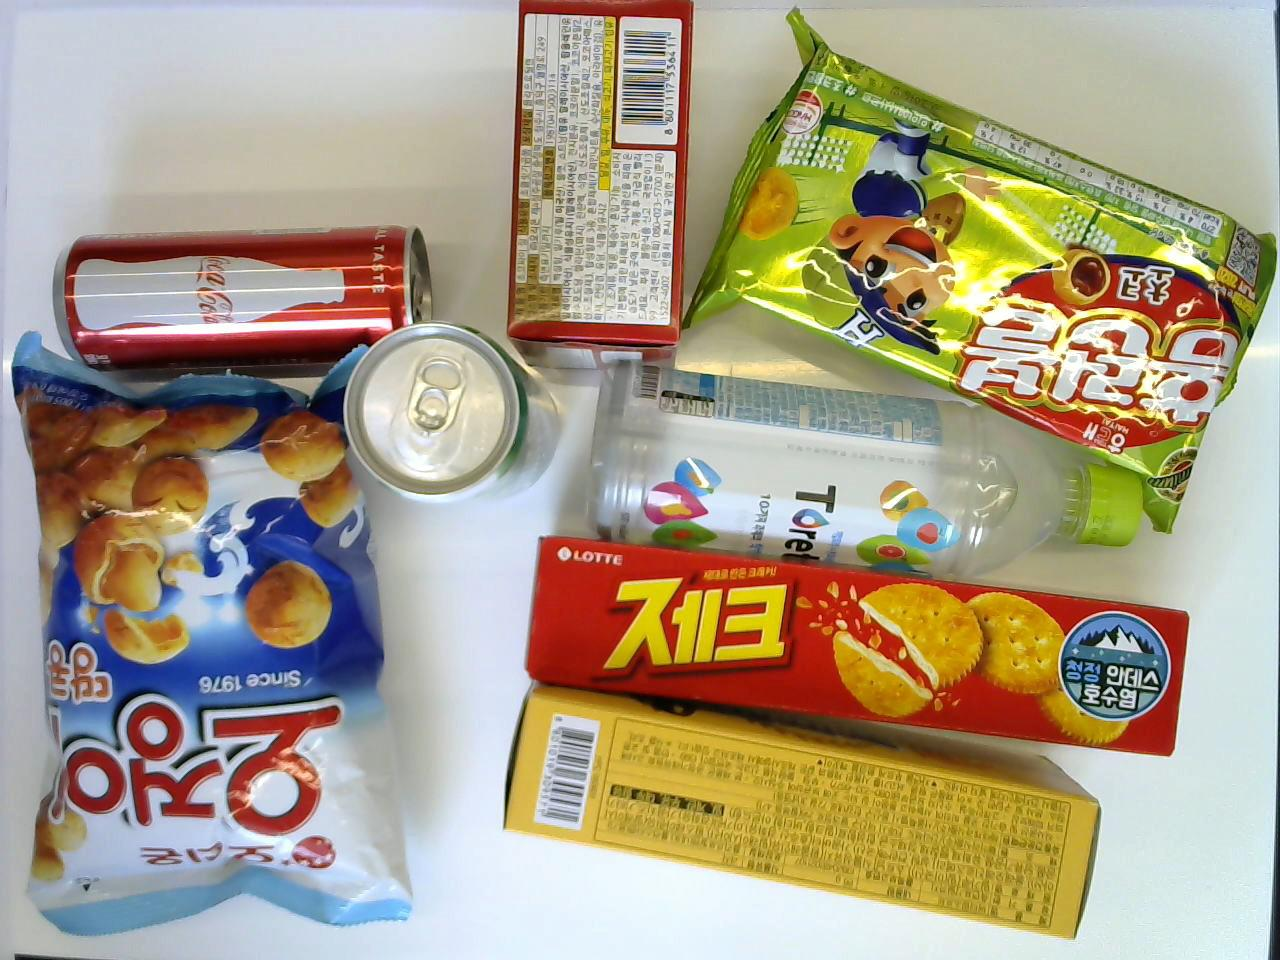buttering: (500, 681, 1106, 936)
chocopie: (504, 0, 698, 384)
cidar: (344, 324, 561, 504)
coke: (50, 228, 437, 380)
homerunball: (681, 5, 1275, 535)
squid_peanut: (12, 329, 414, 935)
toreta: (583, 364, 1142, 576)
zec: (524, 534, 1194, 760)
